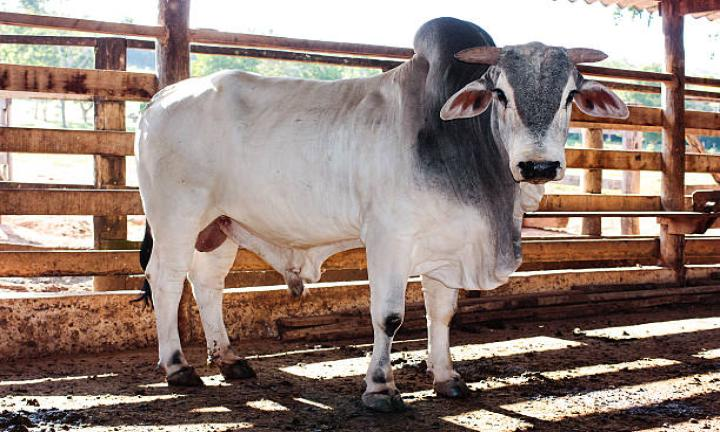Brahman: (135, 18, 627, 410)
